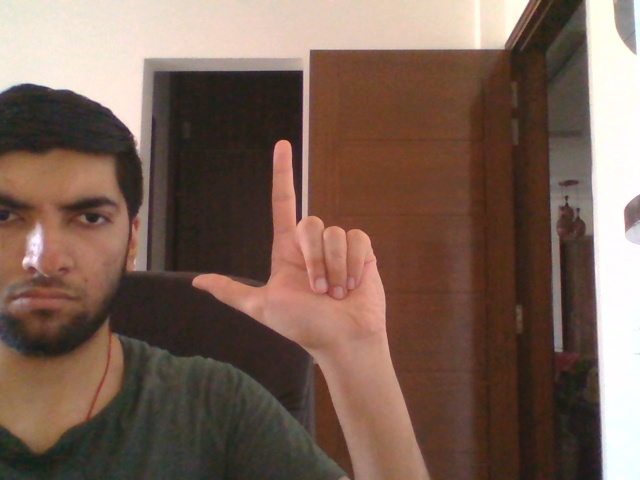LetterL: (190, 139, 388, 351)
